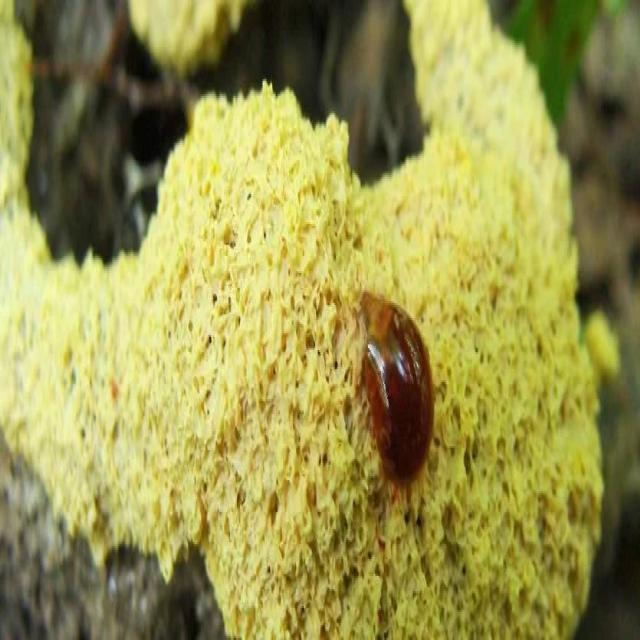Dog_vomit_slime_mold: (0, 0, 604, 634)
